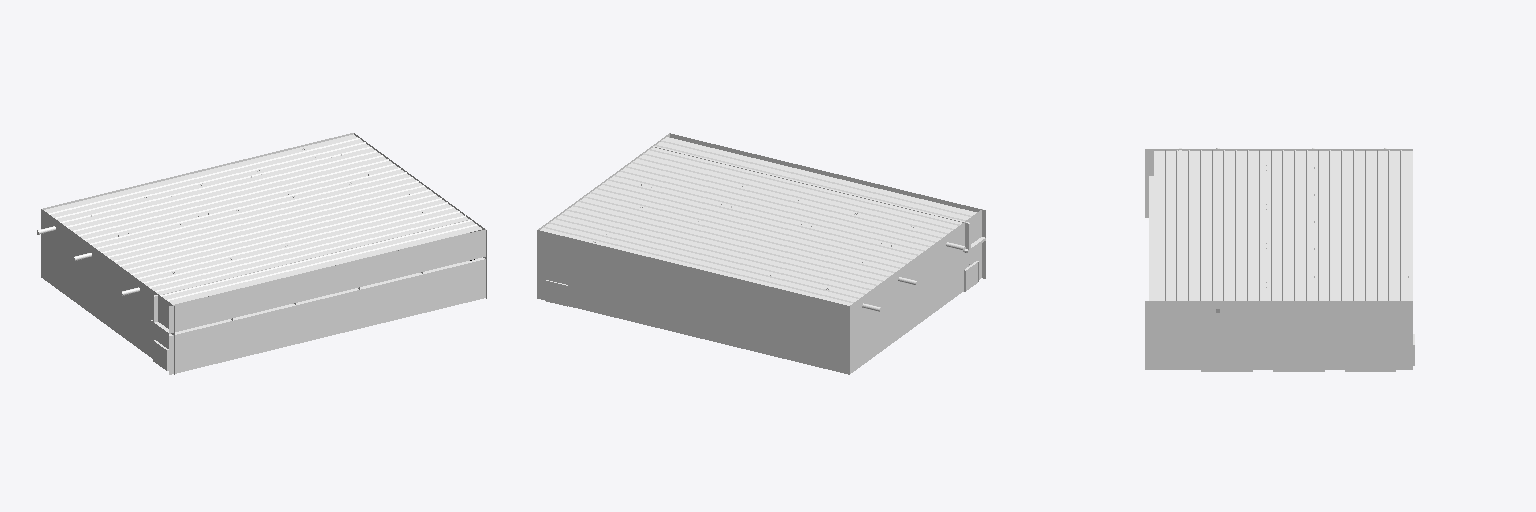
File: room_white.obj
3 renders of one model, left to right at view 1: azimuth 30°, elevation 25°; view 2: azimuth 150°, elevation 25°; view 3: azimuth 270°, elevation 25°, orthographic.
Visible parts, largest first — view 1: Plane.001, Plane.002, Plane; view 2: Plane.001, Plane, Plane.002; view 3: Plane.001, Plane, Cube.002, Plane.002.
Boxes of the visible parts, box(x1,y1,x2,y2) form: Plane.001: box(44, 134, 481, 304); Plane.002: box(151, 219, 485, 374); Plane: box(41, 133, 486, 374); Plane.001: box(540, 137, 976, 305); Plane: box(537, 133, 982, 374); Plane.002: box(653, 133, 985, 278); Plane.001: box(1154, 150, 1412, 300); Plane: box(1145, 149, 1412, 369); Cube.002: box(1201, 344, 1395, 371); Plane.002: box(1149, 148, 1184, 331).
Size of the model in its own units: 52.97 by 10.61 by 37.29.